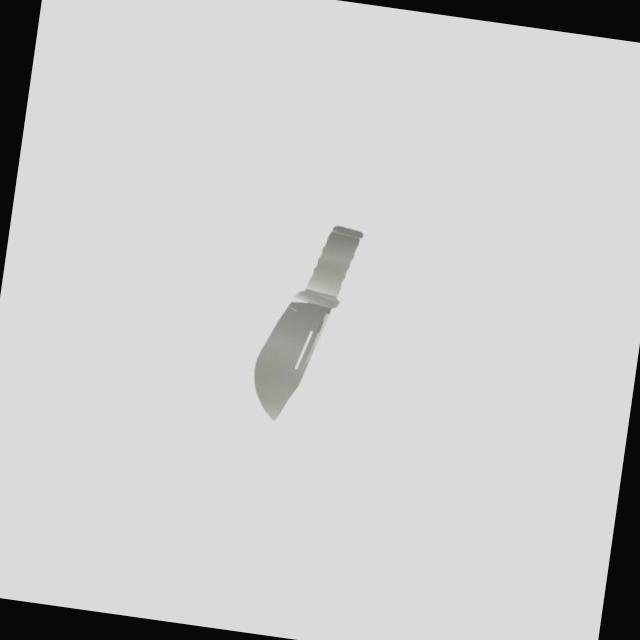knife: (299, 221, 364, 308)
